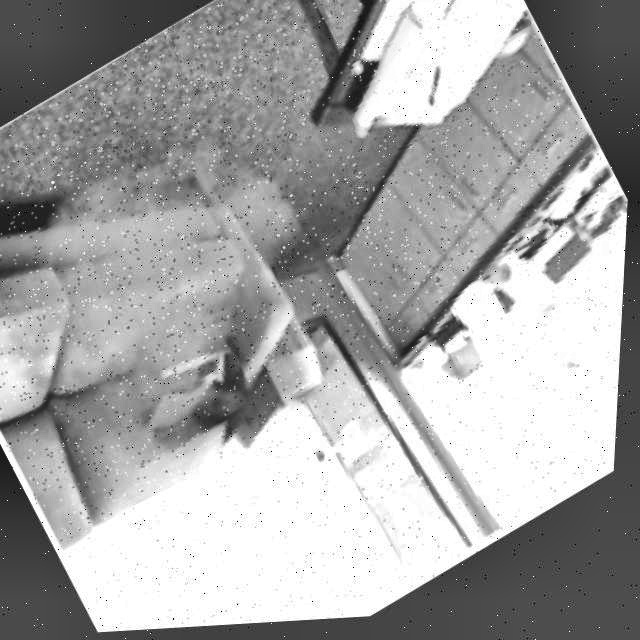Smoke: (0, 94, 423, 575)
